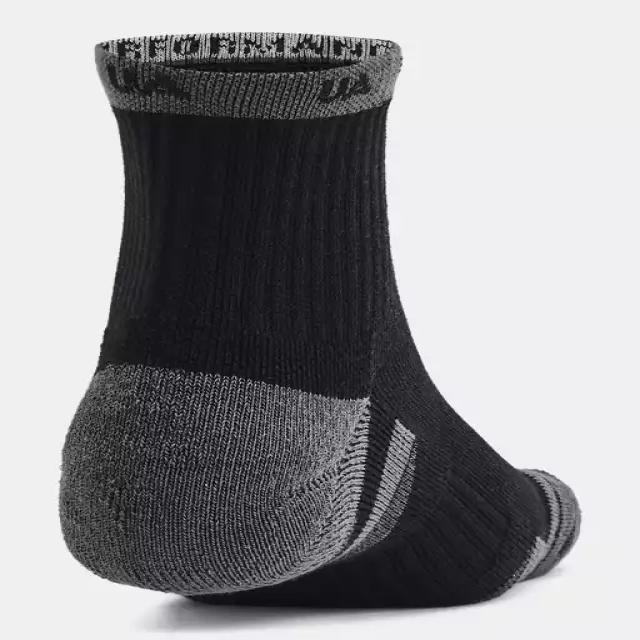sock: (58, 31, 582, 608)
